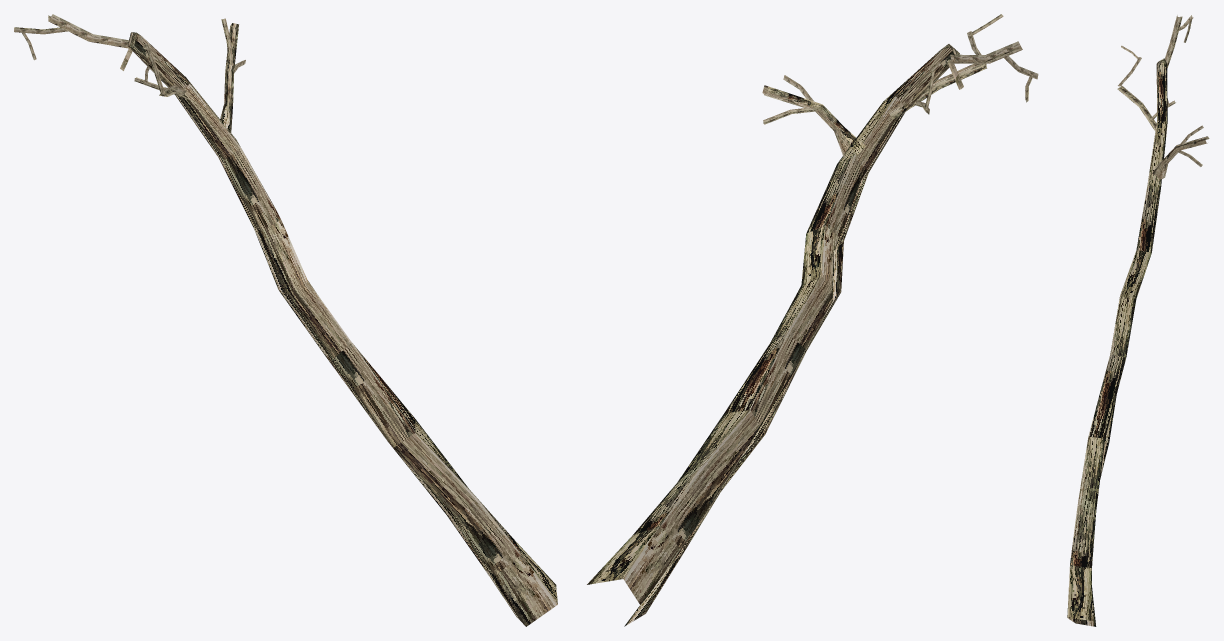
File: stage-maya-p4-73.glb
3 views of the same model, side by side, from view 1: azimuth 30°, elevation 25°; view 2: azimuth 150°, elevation 25°; view 3: azimuth 270°, elevation 25° (orthographic). The views are drawn at different scales.
Bounding box in the file's own units: 12.82 × 17.19 × 4.7.
Materials: 1 (1 with a texture image).
